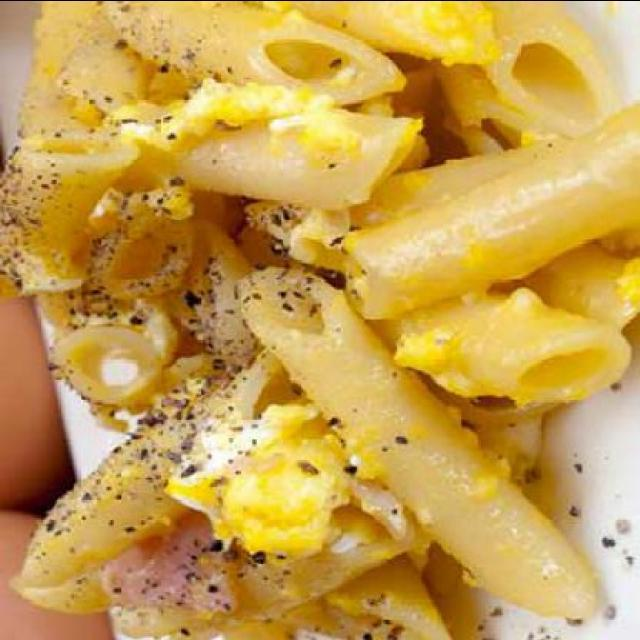Pasta with carbonara sauce: (7, 2, 635, 630)
